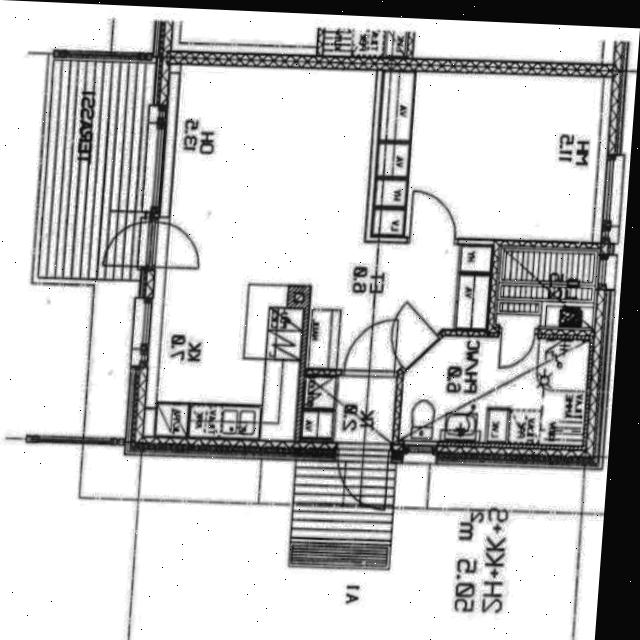room: (371, 70, 604, 242), (399, 333, 589, 446), (493, 245, 600, 330), (301, 375, 395, 445)
